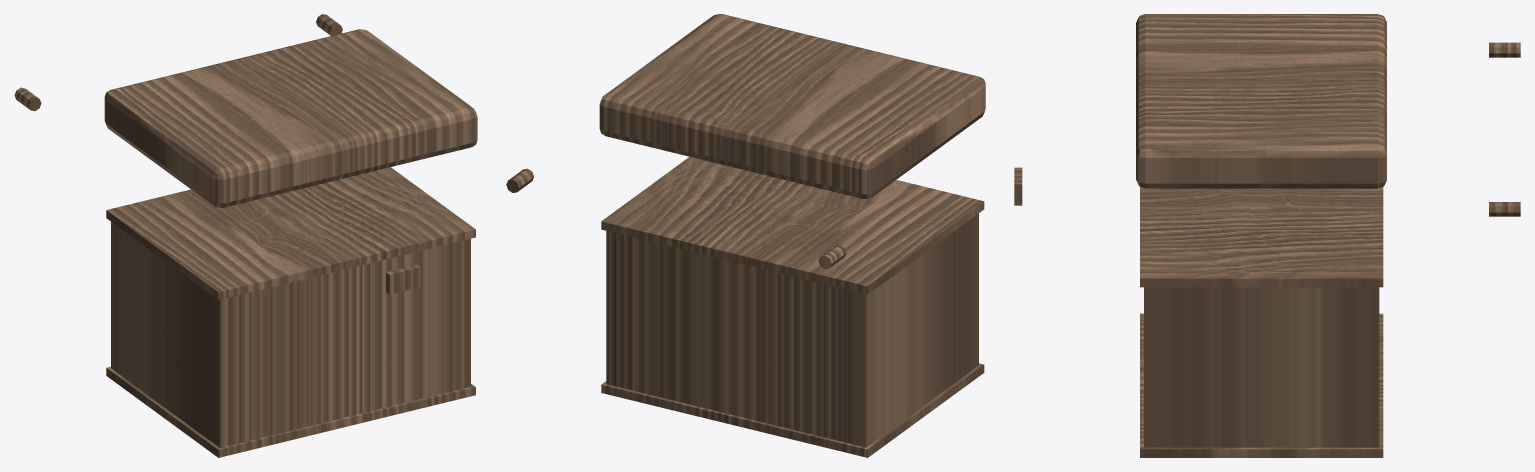
File: small_chest.fbx
The picture shows the model from 3 angles, left to right: view 1: azimuth 30°, elevation 25°; view 2: azimuth 150°, elevation 25°; view 3: azimuth 270°, elevation 25°; orthographic projection. The views are drawn at different scales.
Parts seen in each view (by area): view 1: small_chest; view 2: small_chest; view 3: small_chest.
Part boxes in pixels (x1,y1,x2,y2): small_chest: (14, 14, 477, 457); small_chest: (506, 14, 985, 457); small_chest: (1014, 14, 1520, 457).
Size of the model in its own units: 0.25 by 0.218 by 0.3225.
Materials: 1 (1 with a texture image).
